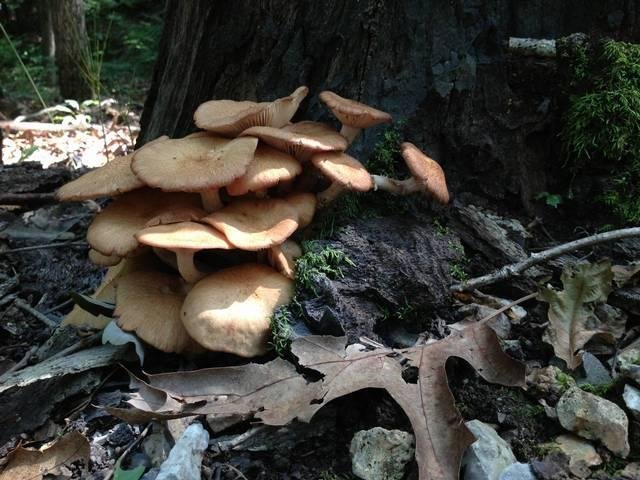edible_mushroom: (53, 83, 450, 358)
